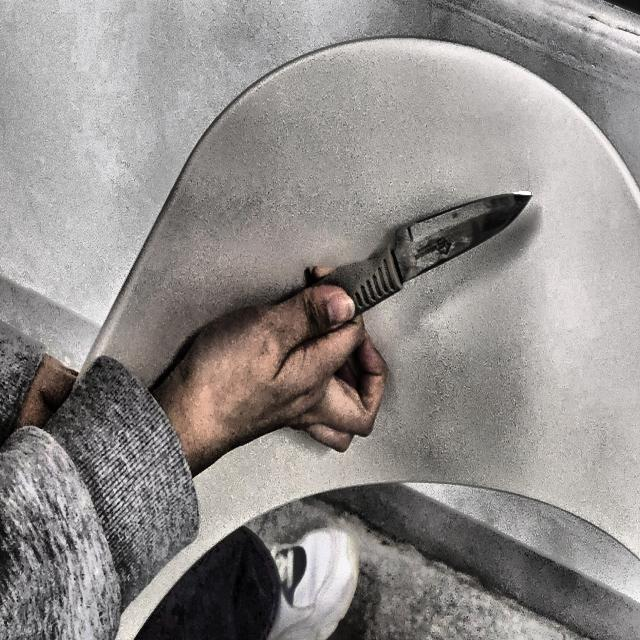knife: (313, 188, 532, 312)
